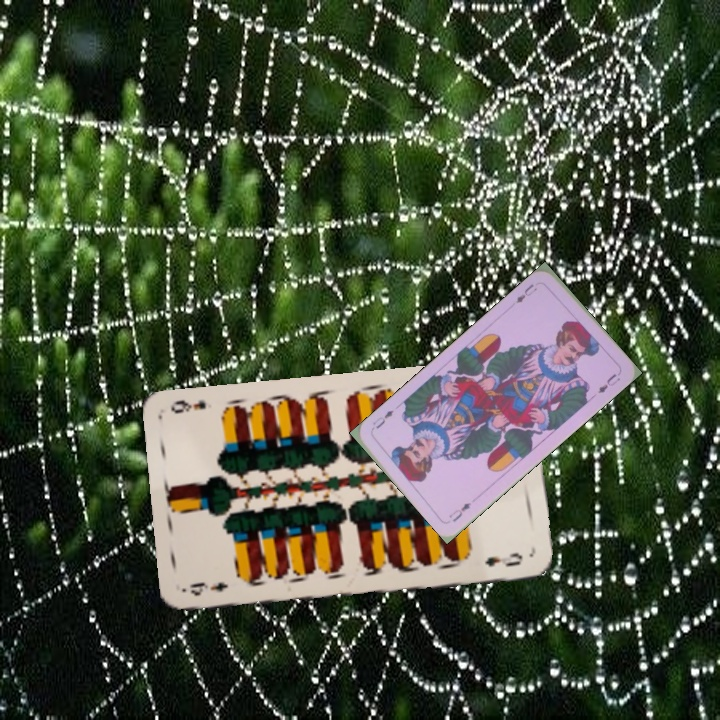E9: (186, 578, 231, 599)
EU: (511, 279, 540, 306), (445, 498, 474, 524)
